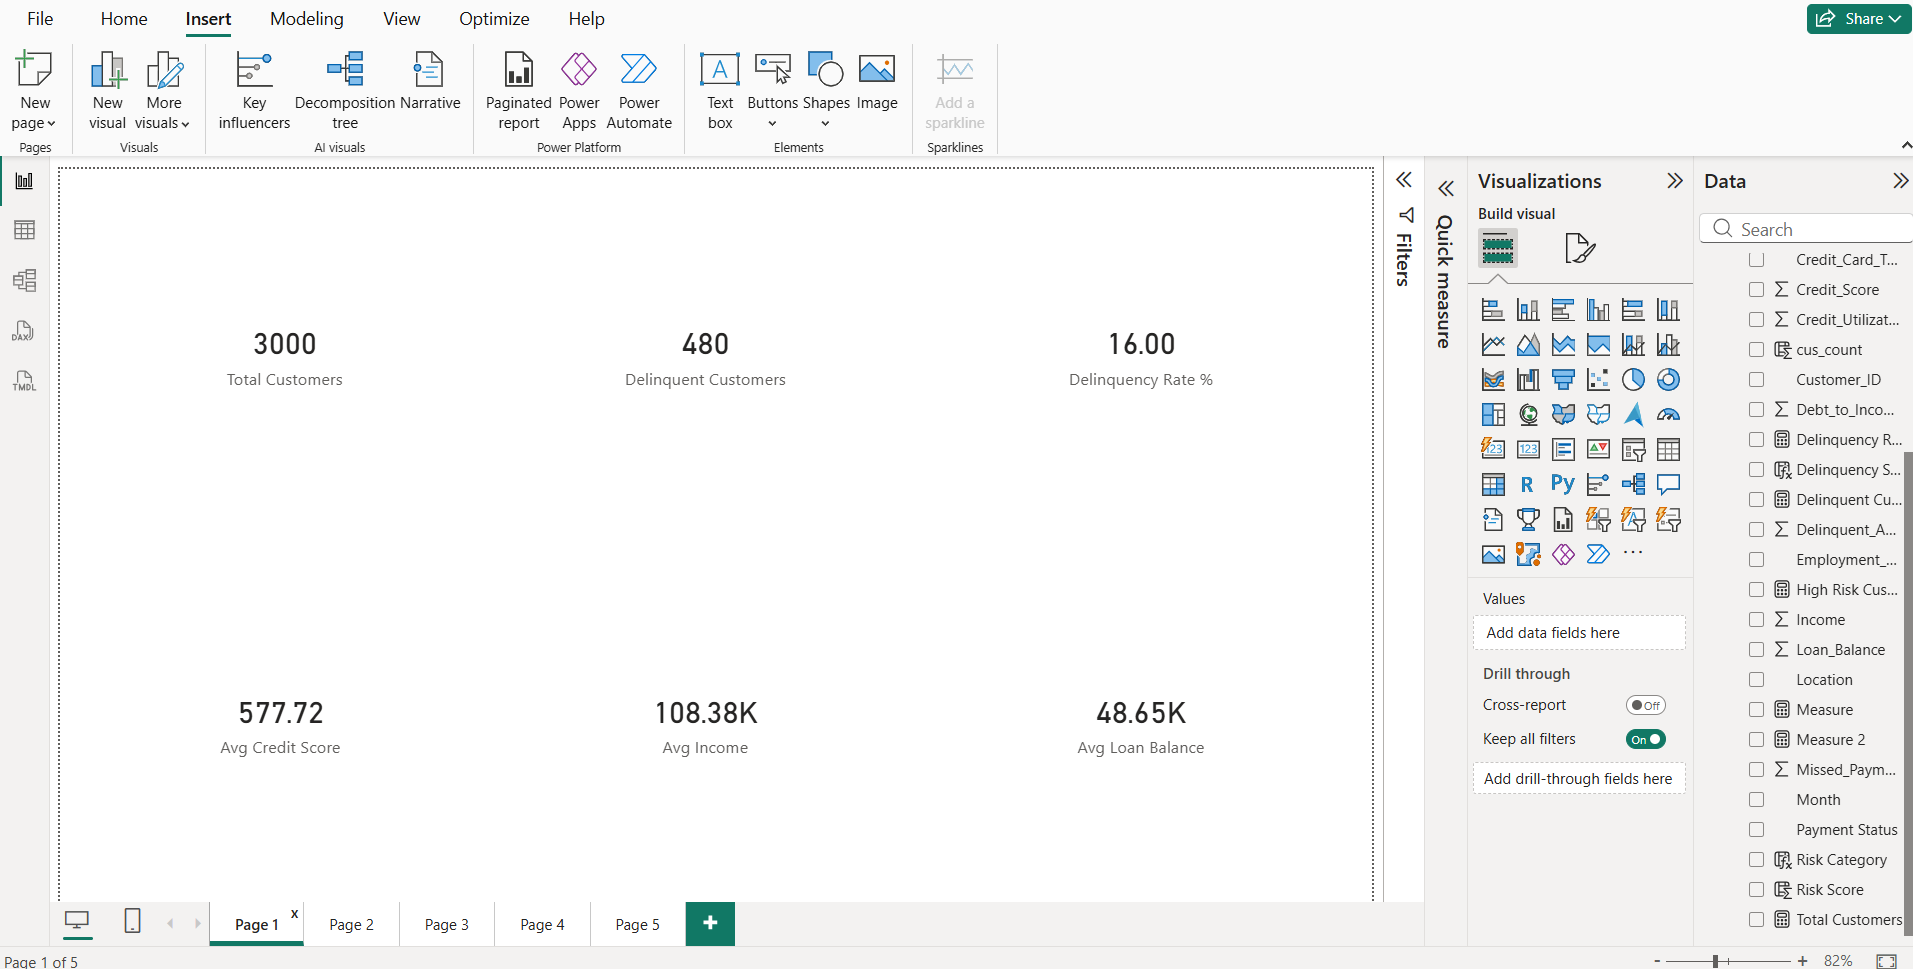

The dashboard page shown, as its layout file describes it:
{"tool":"powerbi","page":{"name":"Page 1","canvas":[1280,720],"ordinal":0},"visuals":[{"type":"card","fields":{"Values":["Delinquency_prediction_dataset.Total Customers"]},"box":[8.5,0,422,359.8],"z":0},{"type":"card","fields":{"Values":["Delinquency_prediction_dataset.Delinquent Customers"]},"box":[430.5,0,398.8,359.8],"z":1000},{"type":"card","fields":{"Values":["Delinquency_prediction_dataset.Delinquency Rate %"]},"box":[829.3,0,451.2,359.8],"z":2000},{"type":"card","fields":{"Values":["Delinquency_prediction_dataset.Avg Credit Score"]},"box":[0,359.8,430.5,359.8],"z":3000},{"type":"card","fields":{"Values":["Delinquency_prediction_dataset.Avg Income"]},"box":[430.5,359.8,398.8,359.8],"z":4000},{"type":"card","fields":{"Values":["Delinquency_prediction_dataset.Avg Loan Balance"]},"box":[829.3,359.8,451.2,359.8],"z":5000}]}

Visuals, with their boxes on the page's 1280x720 design canvas (x1, y1, x2, y2). These are canvas units, not pixel positions in the 1913x969 screenshot, which may show the page scaled, cropped or inside an application window:
card - Delinquency_prediction_dataset.Total Customers: {"left": 8, "top": 0, "right": 430, "bottom": 360}
card - Delinquency_prediction_dataset.Delinquent Customers: {"left": 430, "top": 0, "right": 829, "bottom": 360}
card - Delinquency_prediction_dataset.Delinquency Rate %: {"left": 829, "top": 0, "right": 1280, "bottom": 360}
card - Delinquency_prediction_dataset.Avg Credit Score: {"left": 0, "top": 360, "right": 430, "bottom": 720}
card - Delinquency_prediction_dataset.Avg Income: {"left": 430, "top": 360, "right": 829, "bottom": 720}
card - Delinquency_prediction_dataset.Avg Loan Balance: {"left": 829, "top": 360, "right": 1280, "bottom": 720}
